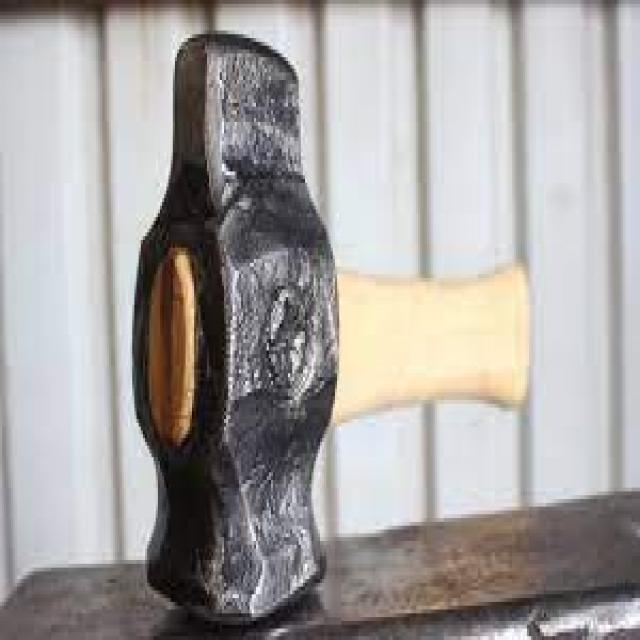hammer: (130, 15, 546, 636)
